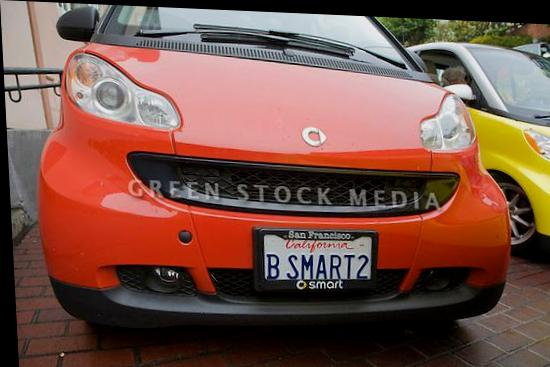License_Plate: (251, 226, 377, 290)
